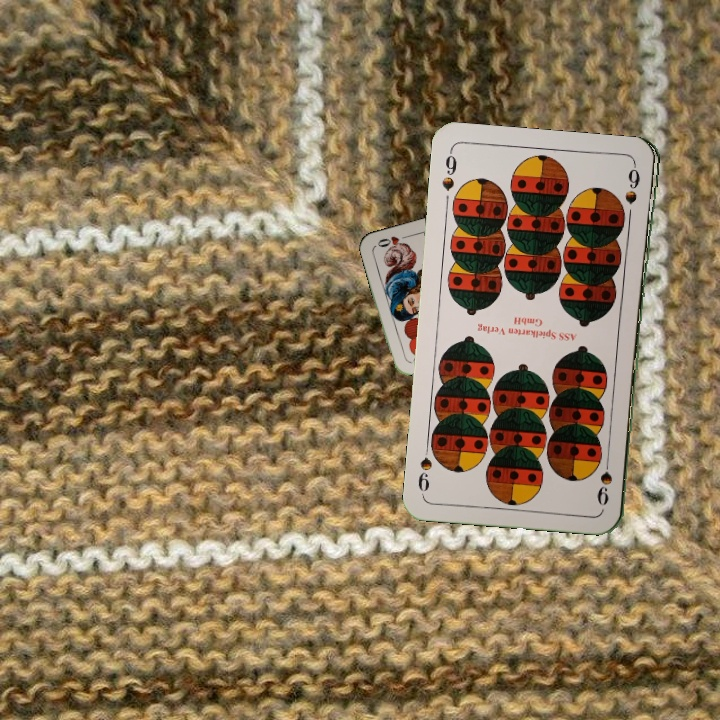S9: (595, 450, 615, 508), (438, 146, 460, 193)
